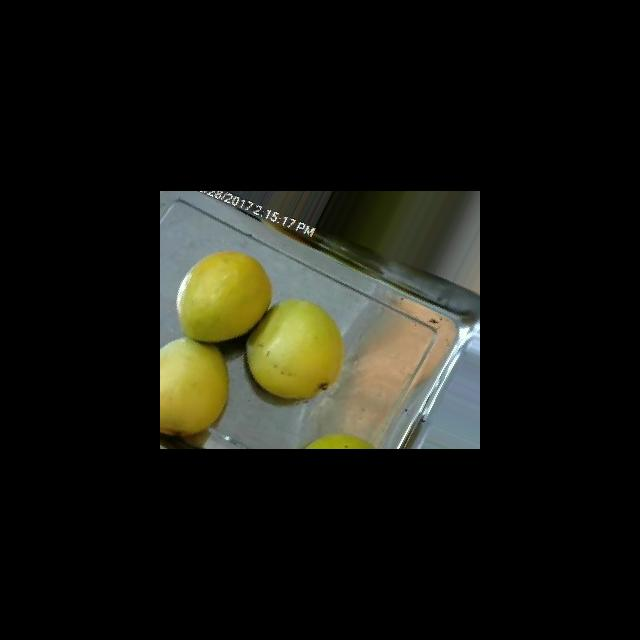mango: (245, 298, 344, 400), (176, 250, 272, 342), (160, 336, 229, 437)
